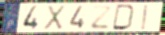4: (21, 5, 40, 32), (69, 5, 86, 31)
D: (112, 4, 137, 31)
I: (141, 4, 149, 31)
X: (42, 5, 67, 31)
Z: (89, 5, 113, 30)
